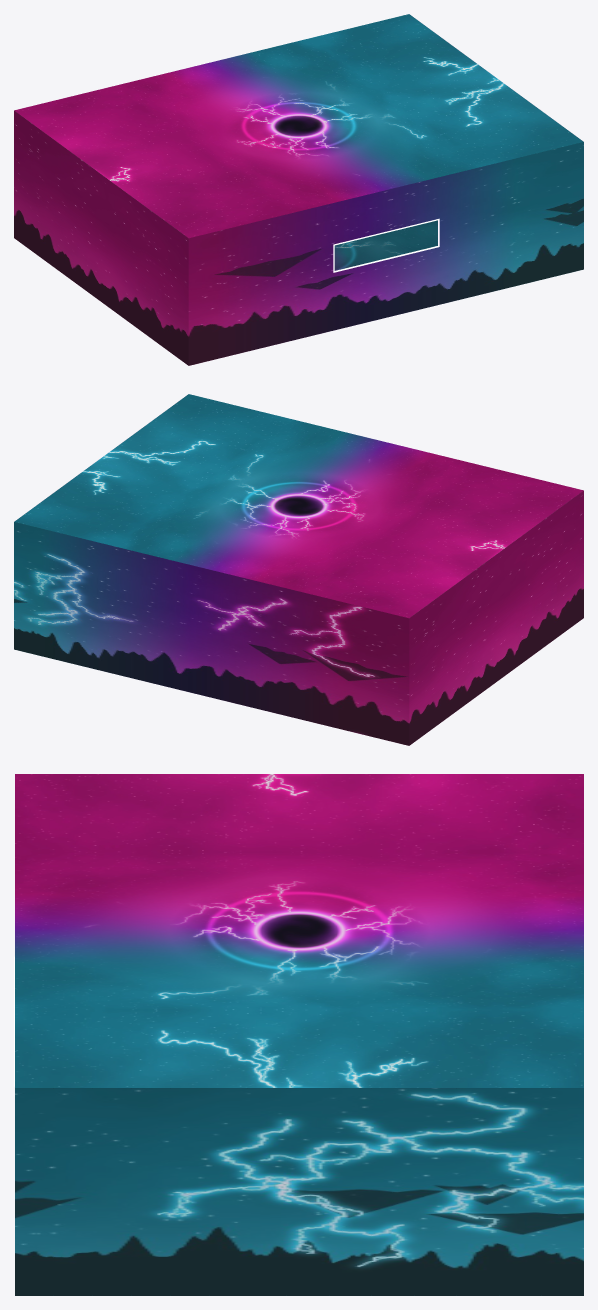
Rendered from skyreach_nexus_sky_v34.glb.
3 renders of one model, top to bottom at view 1: azimuth 30°, elevation 25°; view 2: azimuth 150°, elevation 25°; view 3: azimuth 270°, elevation 25°, orthographic. The views are drawn at different scales.
Parts seen in each view (by area): view 1: sky; view 2: sky; view 3: sky.
Boxes of the visible parts, x1,y1,x2,y2 form: sky: (14, 14, 583, 365); sky: (14, 394, 583, 745); sky: (14, 774, 583, 1295).
Size of the model in its own units: 350 by 108 by 268.
Materials: 4 (3 with a texture image).
